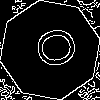O: (25, 25, 79, 72)
